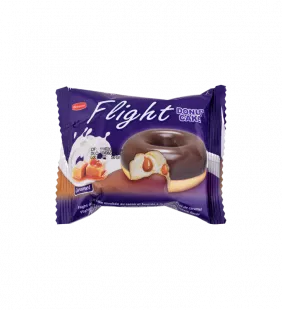FLIGHT: (45, 77, 236, 235)
